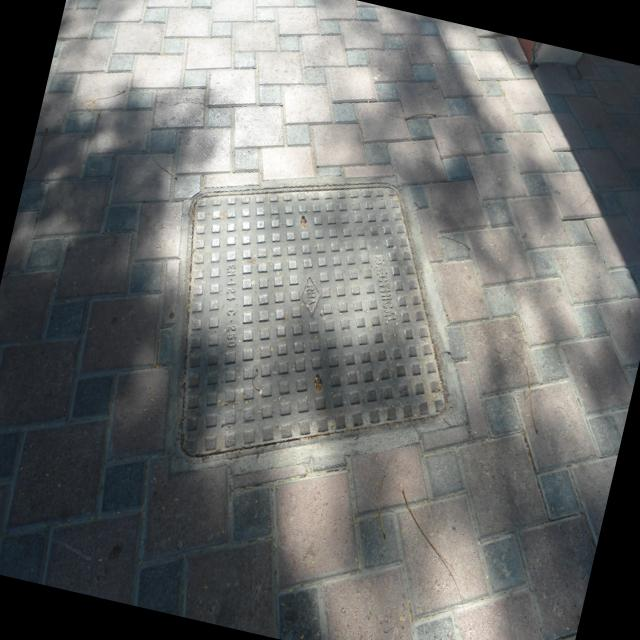pothole: (112, 132, 502, 514)
